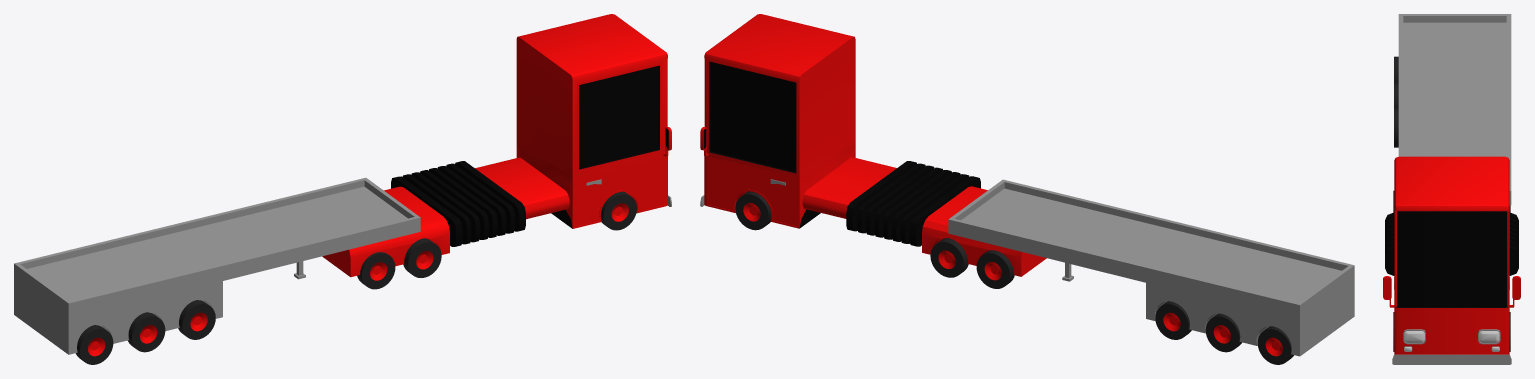
The model's file is truck2.fbx.
3 renders of one model, left to right at view 1: azimuth 30°, elevation 25°; view 2: azimuth 150°, elevation 25°; view 3: azimuth 270°, elevation 25°, orthographic. The views are drawn at different scales.
Parts seen in each view (by area): view 1: truck2, truck2_6, truck2_5, truck2_7; view 2: truck2, truck2_6, truck2_5, truck2_7; view 3: truck2, truck2_5, truck2_7, truck2_6.
Part boxes in pixels (x1,y1,x2,y2): truck2: (14,14,671,354); truck2_6: (127,312,165,352); truck2_5: (178,300,215,339); truck2_7: (75,325,113,364); truck2: (700,14,1354,356); truck2_6: (1205,313,1241,352); truck2_5: (1155,301,1191,339); truck2_7: (1257,326,1293,364); truck2: (1383,14,1520,364); truck2_5: (1394,108,1398,147); truck2_7: (1394,56,1398,82); truck2_6: (1394,82,1398,107).
Bounding box in the file's own units: 2674 × 731 × 517.
